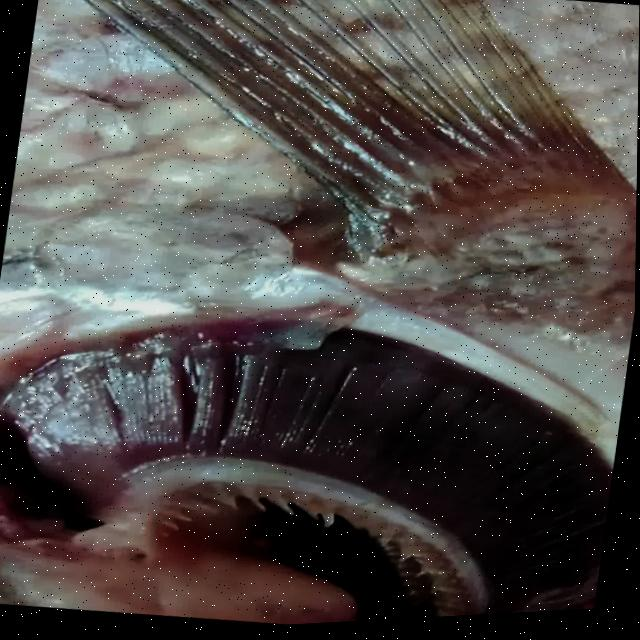Non-Fresh: (0, 270, 633, 640)
